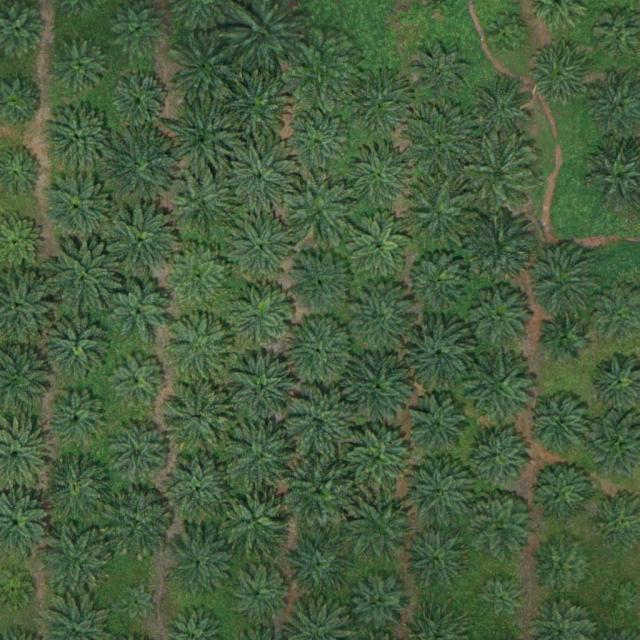Healthy: (42, 102, 113, 173), (166, 314, 237, 385), (161, 382, 232, 453), (219, 70, 290, 141), (286, 176, 357, 247), (284, 247, 355, 318), (462, 139, 533, 210), (527, 248, 598, 319), (165, 531, 236, 602), (287, 37, 357, 108), (49, 241, 119, 312), (44, 385, 114, 456), (107, 133, 178, 203), (106, 207, 177, 277), (169, 170, 239, 241), (226, 214, 296, 285), (229, 354, 299, 425), (284, 109, 354, 180), (343, 67, 413, 138), (346, 139, 416, 210), (349, 281, 419, 352), (405, 109, 475, 180), (403, 176, 473, 247), (404, 314, 474, 385), (466, 210, 536, 281), (464, 281, 534, 352), (407, 459, 477, 530), (345, 425, 415, 496), (286, 457, 356, 528), (283, 527, 353, 598), (221, 487, 292, 557), (164, 457, 235, 527), (103, 491, 173, 562), (42, 455, 112, 526), (44, 525, 114, 596), (406, 39, 476, 109), (171, 35, 241, 105), (43, 175, 113, 245), (45, 312, 115, 382), (168, 107, 238, 177), (225, 145, 295, 215), (284, 319, 354, 389), (284, 389, 354, 459), (344, 350, 414, 420), (465, 355, 535, 425), (346, 495, 416, 565), (227, 425, 297, 495), (229, 284, 292, 347), (407, 395, 470, 458), (530, 459, 593, 522), (227, 562, 290, 625), (529, 43, 591, 106), (107, 280, 169, 343), (167, 246, 229, 309), (348, 213, 410, 276), (470, 80, 532, 143), (526, 394, 588, 457), (533, 534, 595, 597), (468, 425, 530, 488), (469, 495, 531, 558), (406, 526, 468, 589), (350, 574, 412, 637), (109, 423, 171, 485), (408, 249, 470, 311), (53, 39, 108, 95), (111, 3, 166, 58), (114, 76, 169, 131), (112, 354, 167, 409), (541, 312, 588, 360)
Small: (477, 577, 524, 624), (487, 14, 527, 54), (600, 580, 639, 619), (118, 583, 157, 622)
